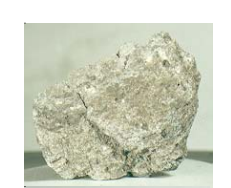Breccia: (32, 32, 193, 183), (38, 46, 208, 181)
